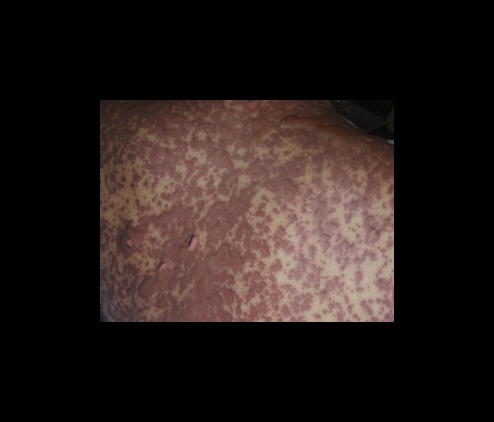SJS-TEN: (99, 99, 398, 322)
